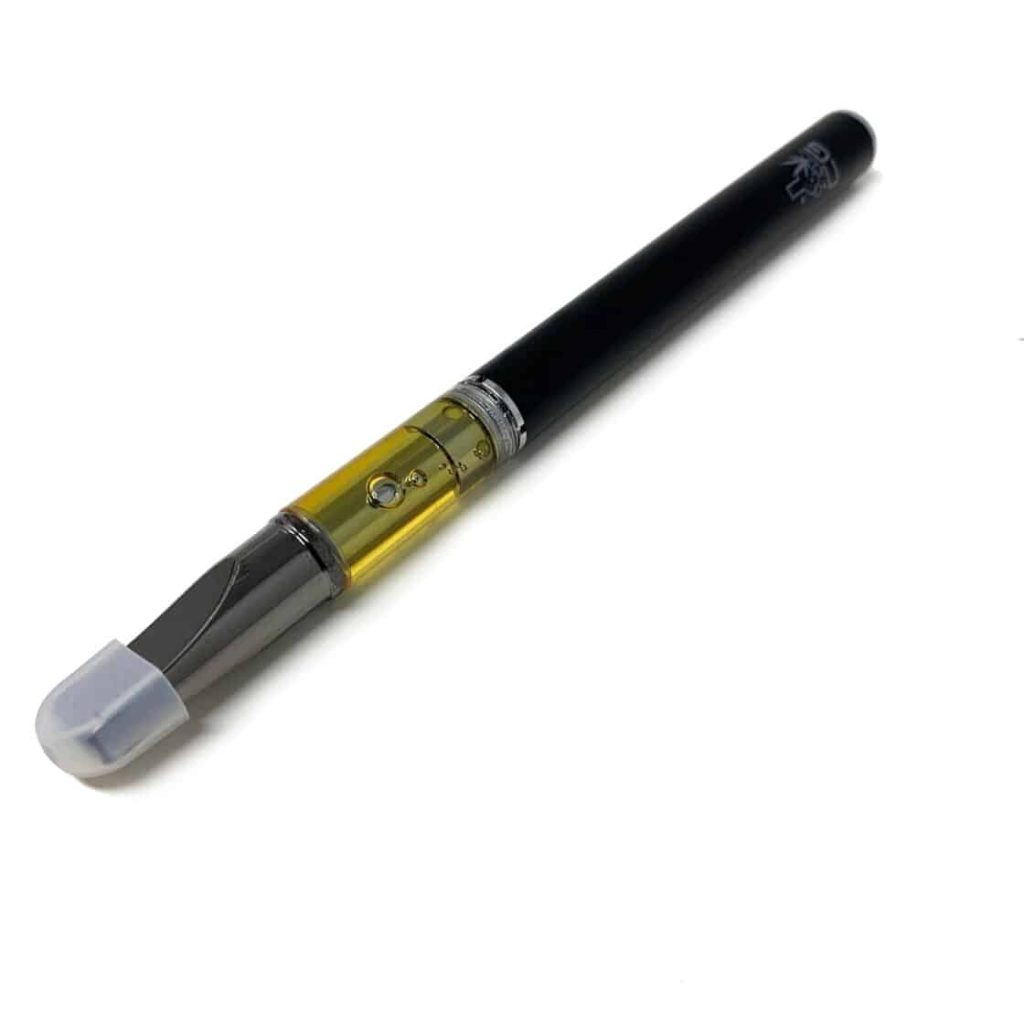weed_pen: (75, 26, 911, 784)
